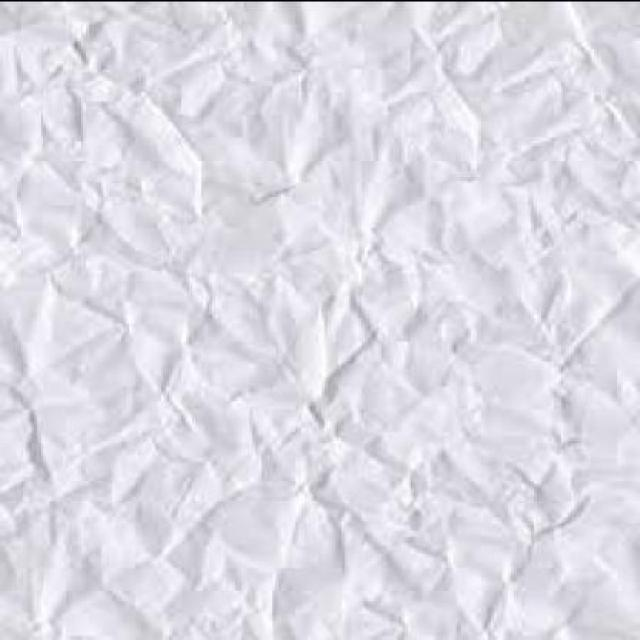PAPER: (3, 1, 639, 637)
